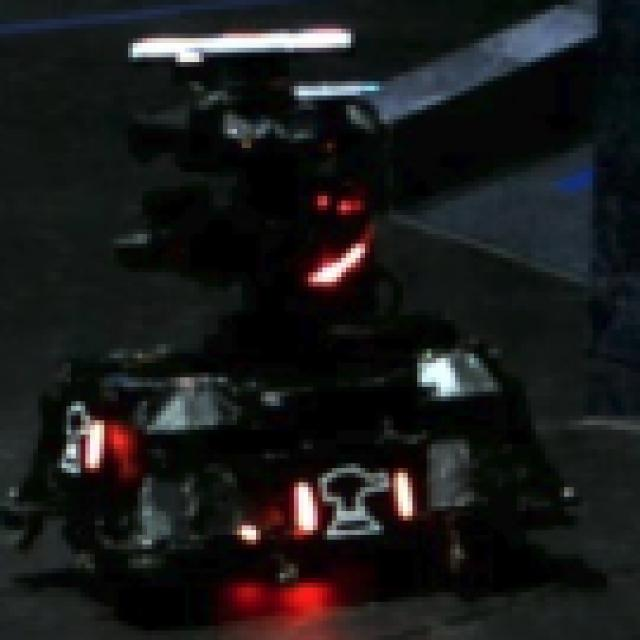Rs: (279, 468, 426, 530)
